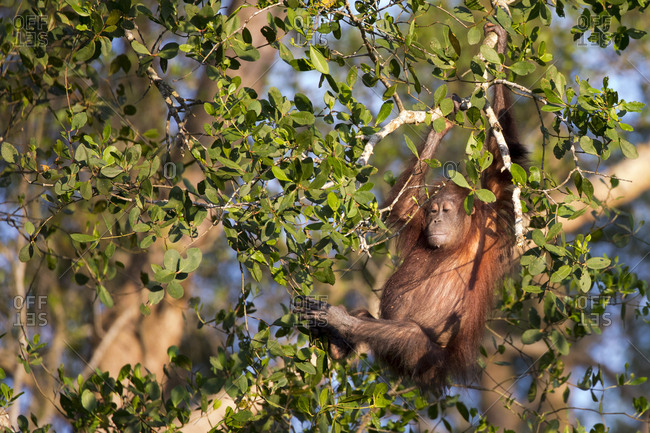Orangutan: (375, 181, 512, 372)
